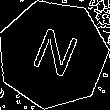N_S: (25, 23, 81, 85)
